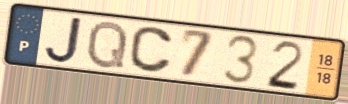2: (265, 39, 306, 93)
3: (221, 33, 261, 87)
7: (178, 27, 218, 79)
C: (127, 25, 175, 75)
J: (42, 14, 85, 65)
Q: (84, 19, 130, 70)
